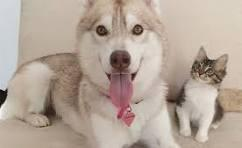cats: (178, 43, 236, 145)
dogs: (8, 0, 172, 142)
